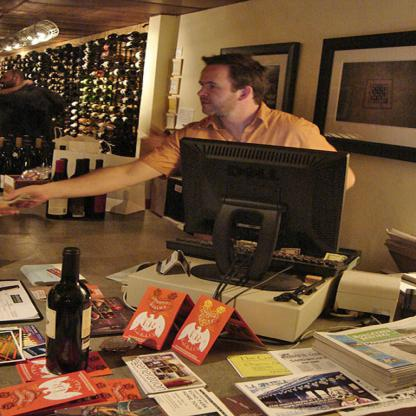book: (124, 350, 206, 394)
